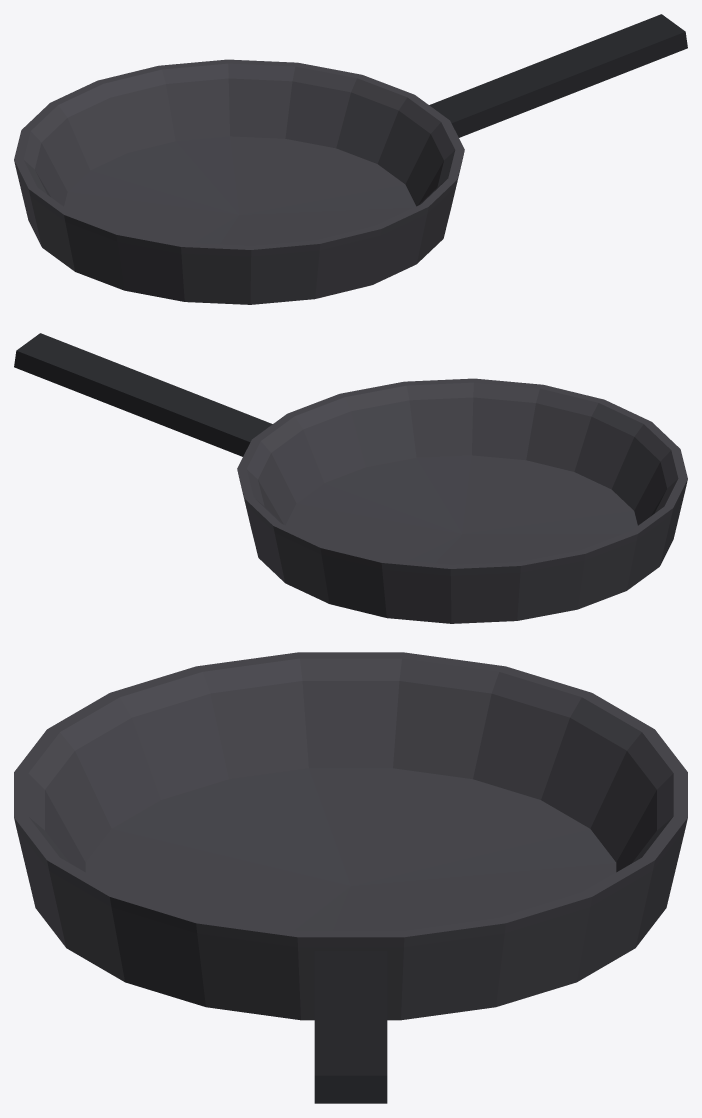
The model's file is SM_Cook_FryPan_01.fbx.
The picture shows the model from 3 angles, top to bottom: view 1: azimuth 30°, elevation 25°; view 2: azimuth 150°, elevation 25°; view 3: azimuth 270°, elevation 25°; orthographic projection. The views are drawn at different scales.
Visible parts, largest first — view 1: SM_Cook_FryPan_01; view 2: SM_Cook_FryPan_01; view 3: SM_Cook_FryPan_01.
Part boxes in pixels (x1=…): SM_Cook_FryPan_01: x1=14, y1=14, x2=687, y2=304; SM_Cook_FryPan_01: x1=14, y1=333, x2=687, y2=623; SM_Cook_FryPan_01: x1=14, y1=652, x2=687, y2=1103.
Bounding box in the file's own units: 0.4541 × 0.0659 × 0.2785.
Materials: 1 (1 with a texture image).
